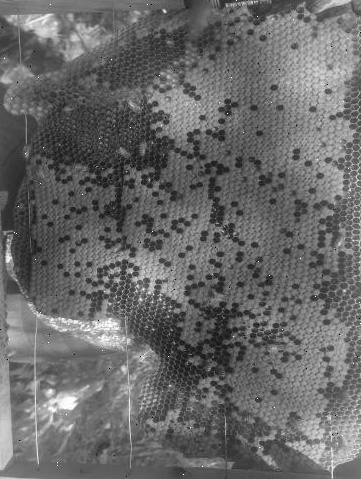cria: (25, 6, 361, 471)
